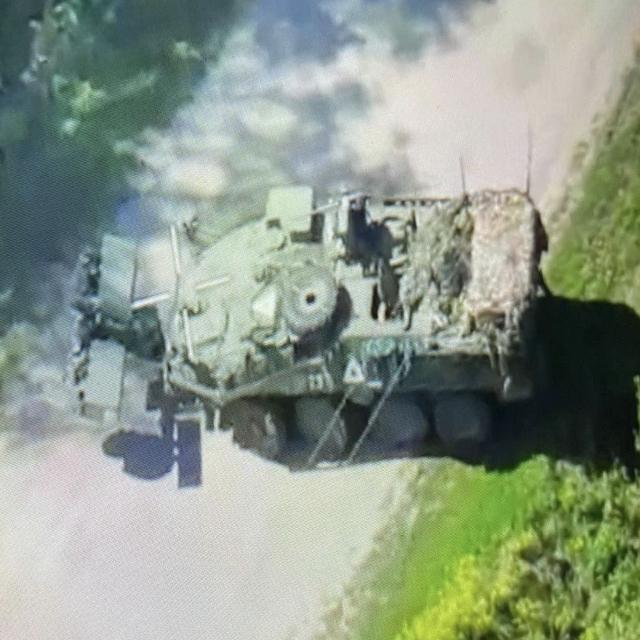vehicle: (54, 147, 561, 472)
